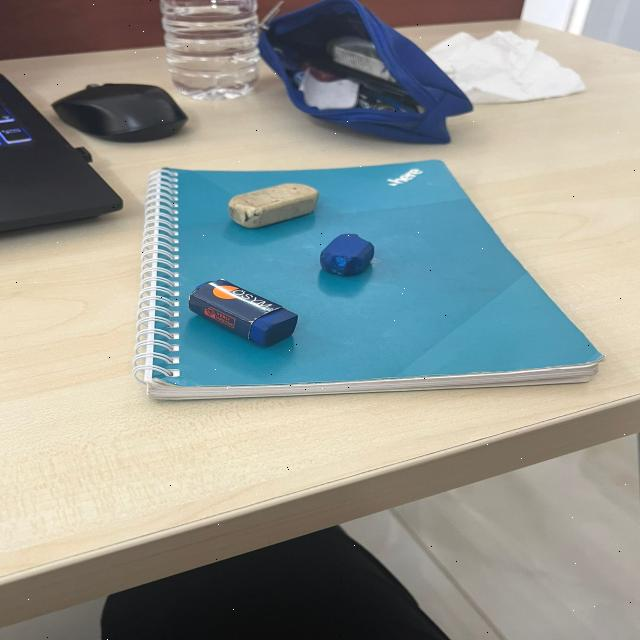eraser: (181, 270, 302, 353), (213, 175, 334, 232), (317, 224, 382, 285)
